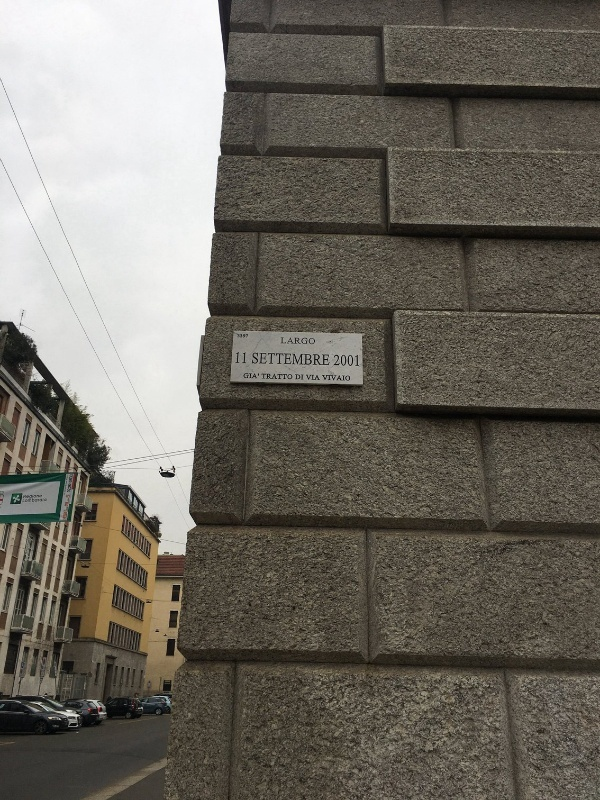text: (67, 473, 80, 522), (257, 352, 272, 368), (273, 352, 288, 368), (289, 352, 304, 368), (305, 352, 320, 368), (337, 353, 352, 368), (321, 352, 330, 368), (289, 336, 304, 345), (353, 353, 360, 368), (273, 373, 288, 380), (305, 374, 320, 381), (243, 372, 256, 380), (305, 336, 316, 345), (322, 375, 336, 382), (337, 375, 351, 382), (33, 497, 48, 503), (241, 351, 247, 365), (261, 373, 272, 380), (280, 336, 288, 345), (235, 351, 240, 365), (252, 352, 256, 368), (295, 374, 304, 381), (23, 497, 32, 503), (33, 494, 43, 499), (333, 353, 336, 368), (23, 494, 32, 499), (241, 334, 249, 339), (289, 373, 294, 380), (257, 372, 259, 380), (237, 334, 240, 339)
